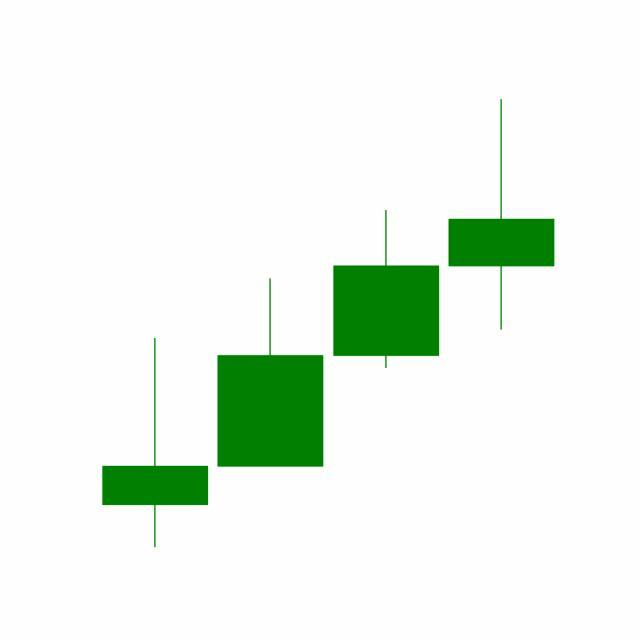Spinning Top: (444, 97, 560, 334)
